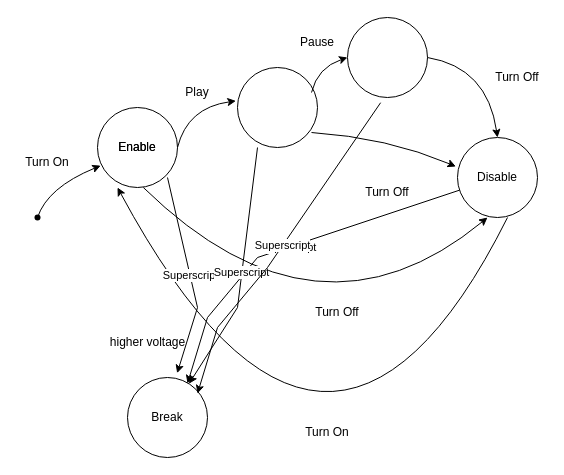
Some shapes in this 564 by 475 pixel diagram are drawn without their labels. The shapes that lost their labels are listed below. From the top down, each one's centre as x and y in pixels, then its label:
At (387,57): "Paused".
At (277,107): "Playback".
